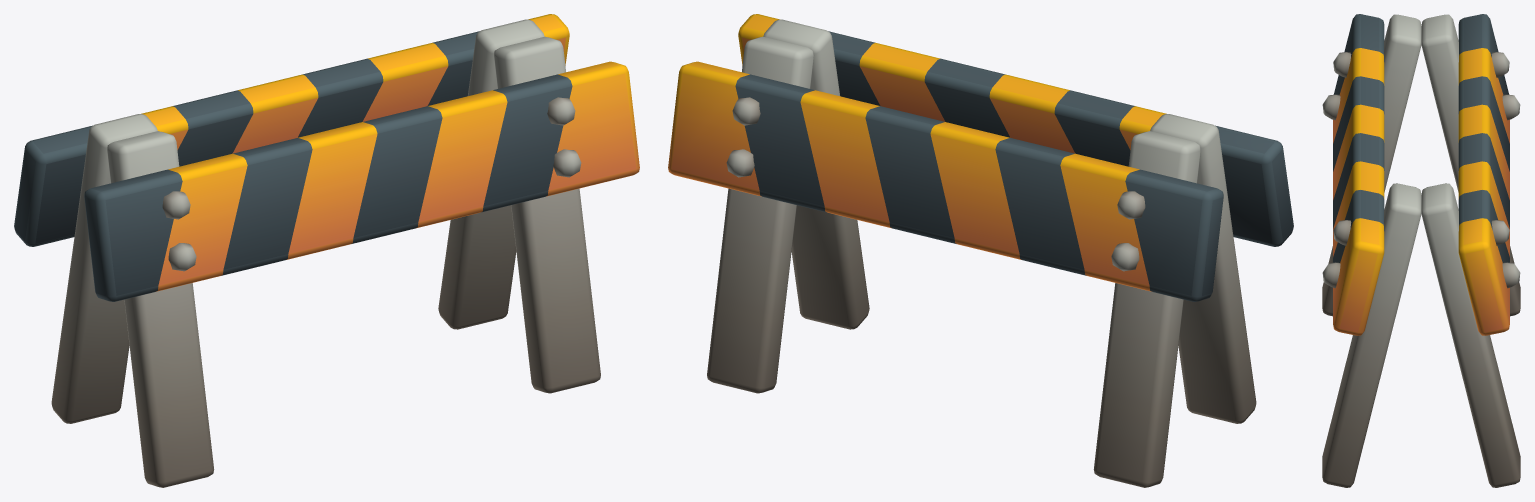
The model's file is mct_prop_streetblock.fbx.
The picture shows the model from 3 angles, left to right: view 1: azimuth 30°, elevation 25°; view 2: azimuth 150°, elevation 25°; view 3: azimuth 270°, elevation 25°; orthographic projection. The views are drawn at different scales.
Parts seen in each view (by area): view 1: mct_streetblock; view 2: mct_streetblock; view 3: mct_streetblock.
Boxes of the visible parts, x1,y1,x2,y2 form: mct_streetblock: [14, 14, 639, 487]; mct_streetblock: [668, 14, 1293, 487]; mct_streetblock: [1322, 14, 1520, 487].
Size of the model in its own units: 165 by 94.34 by 59.65.
